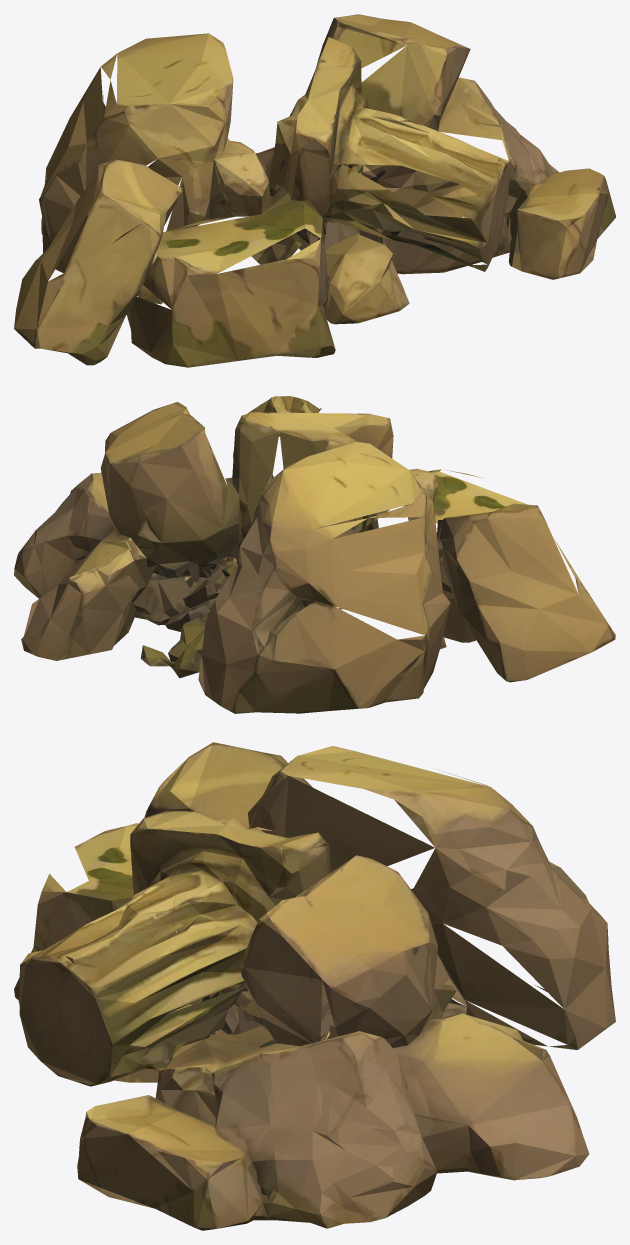
Rendered from rubble_stones.glb.
The picture shows the model from 3 angles, top to bottom: view 1: azimuth 30°, elevation 25°; view 2: azimuth 150°, elevation 25°; view 3: azimuth 270°, elevation 25°; orthographic projection. The views are drawn at different scales.
Parts seen in each view (by area): view 1: geometry_0; view 2: geometry_0; view 3: geometry_0.
Boxes of the visible parts, bbox=[...] form: geometry_0: bbox=[14, 14, 615, 367]; geometry_0: bbox=[14, 396, 615, 713]; geometry_0: bbox=[14, 742, 615, 1230].
Bounding box in the file's own units: 1.2 × 0.4155 × 0.8594.
1 material, 1 textured.
